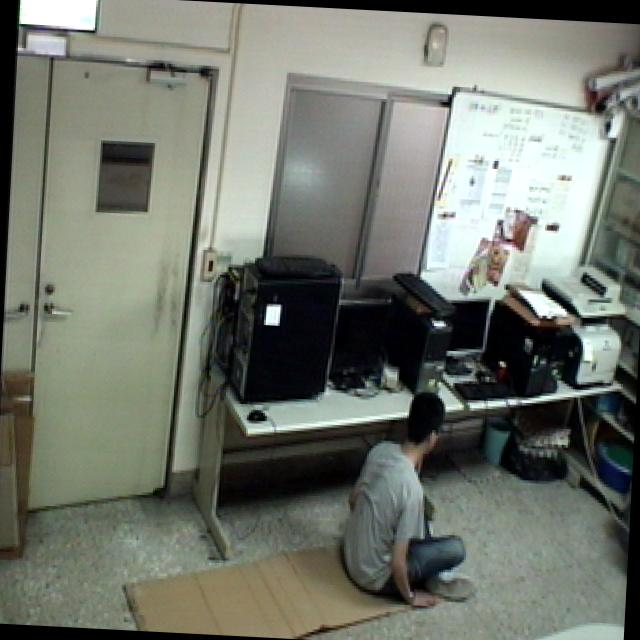sit: (339, 376, 494, 622)
